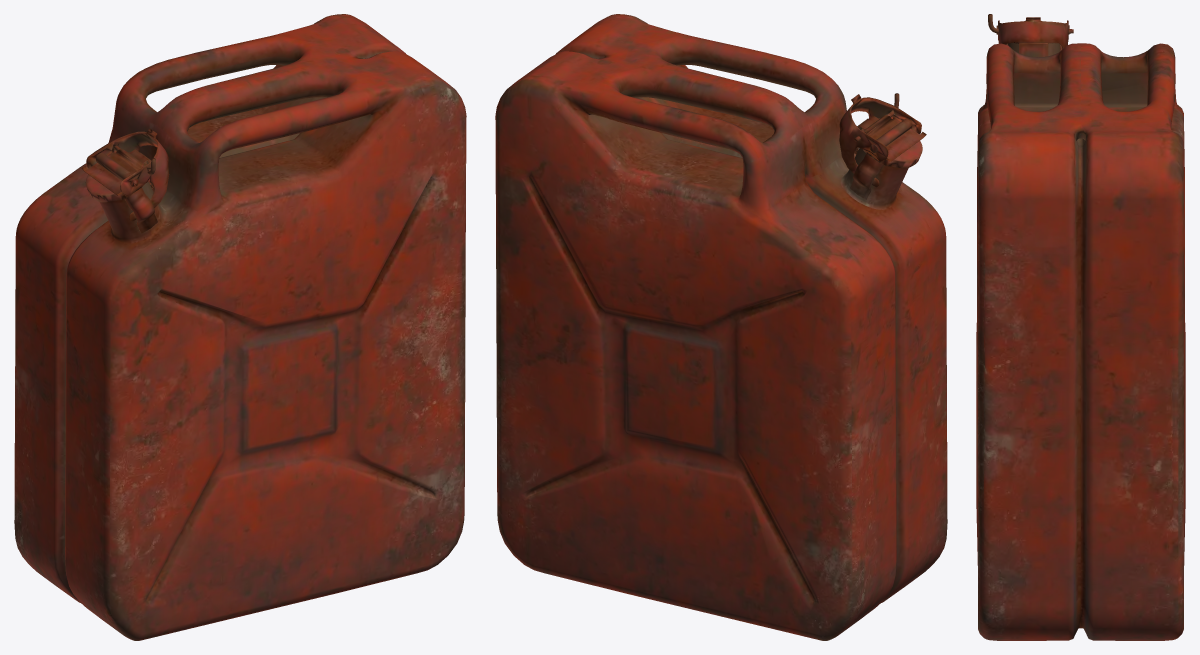
File: metal_jerrycan.glb
3 views of the same model, side by side, from view 1: azimuth 30°, elevation 25°; view 2: azimuth 150°, elevation 25°; view 3: azimuth 270°, elevation 25° (orthographic). The views are drawn at different scales.
Parts seen in each view (by area): view 1: metal_jerrycan; view 2: metal_jerrycan; view 3: metal_jerrycan.
Part boxes in pixels (x1,y1,x2,y2): metal_jerrycan: (14, 14, 466, 640); metal_jerrycan: (495, 14, 947, 640); metal_jerrycan: (976, 14, 1185, 640).
Bounding box in the file's own units: 0.3503 × 0.4552 × 0.1718.
1 material, 1 textured.
